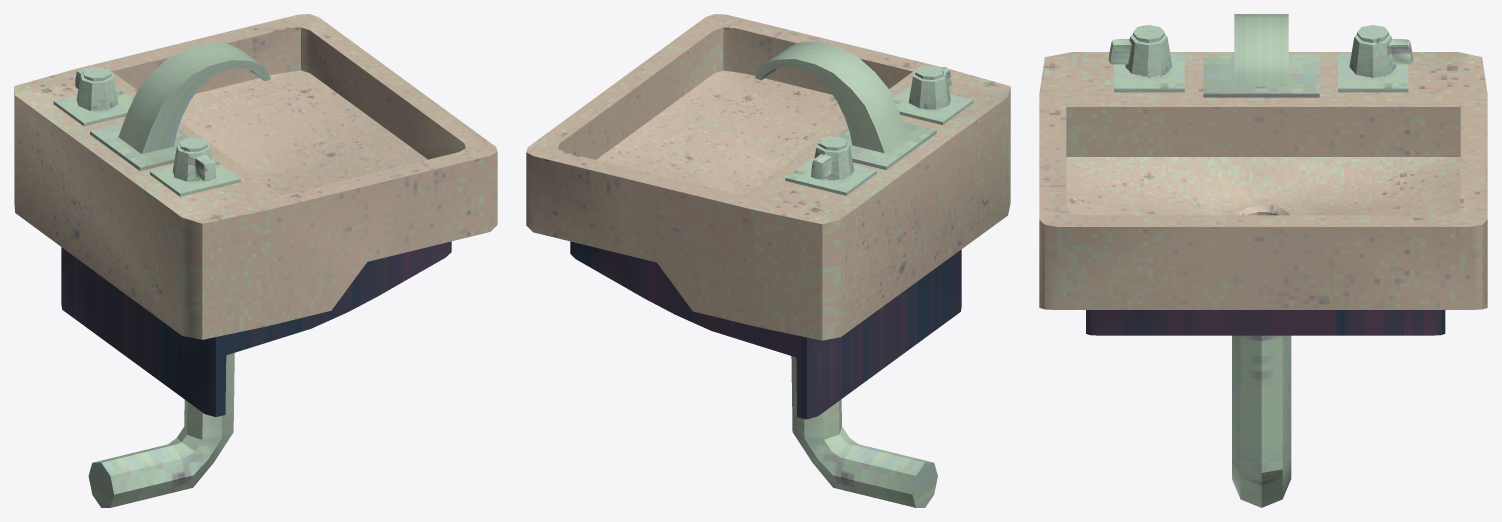
File: Sink.fbx
The picture shows the model from 3 angles, left to right: view 1: azimuth 30°, elevation 25°; view 2: azimuth 150°, elevation 25°; view 3: azimuth 270°, elevation 25°; orthographic projection. The views are drawn at different scales.
Visible parts, largest first — view 1: pCube26; view 2: pCube26; view 3: pCube26.
Boxes of the visible parts, box(x1,y1,x2,y2) form: pCube26: box(14, 14, 497, 507); pCube26: box(526, 14, 1010, 507); pCube26: box(1039, 14, 1487, 507).
Bounding box in the file's own units: 0.9669 × 1.28 × 1.05.
1 material, 1 textured.
